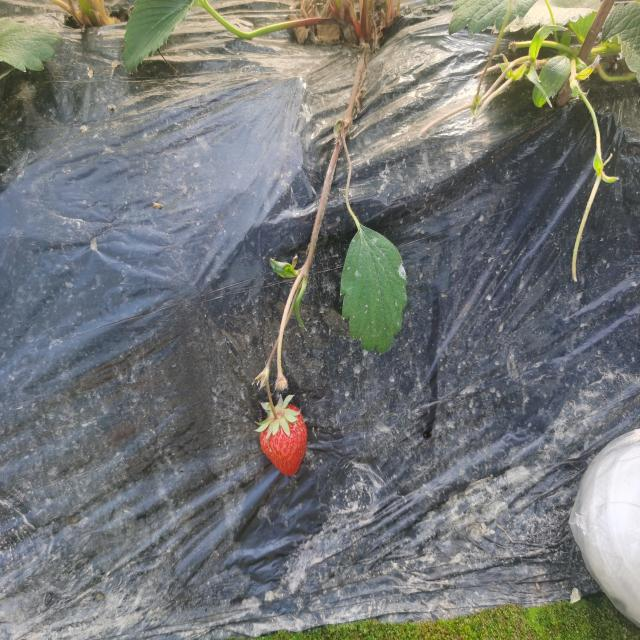stem: (266, 385, 280, 421)
strawberry: (259, 404, 307, 475)
